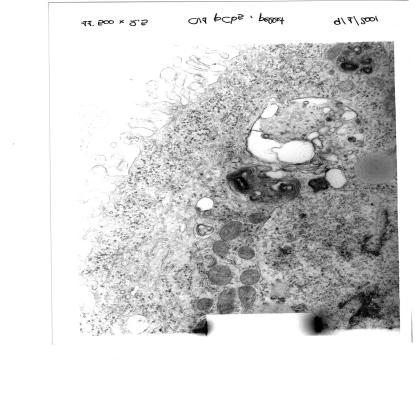mitochondria: (206, 265, 233, 286), (217, 287, 238, 314), (218, 221, 244, 241), (238, 286, 256, 312), (212, 240, 231, 258), (240, 269, 260, 286), (236, 246, 256, 260), (335, 80, 356, 92), (366, 78, 386, 90), (248, 212, 266, 225), (197, 298, 215, 310)
